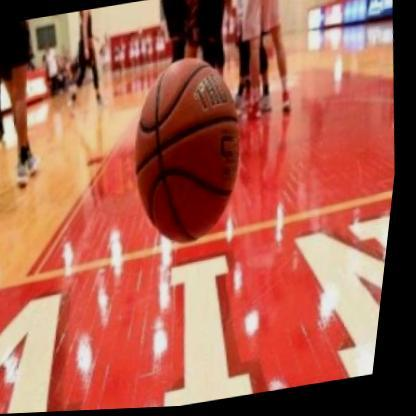basketball: (111, 44, 272, 263)
